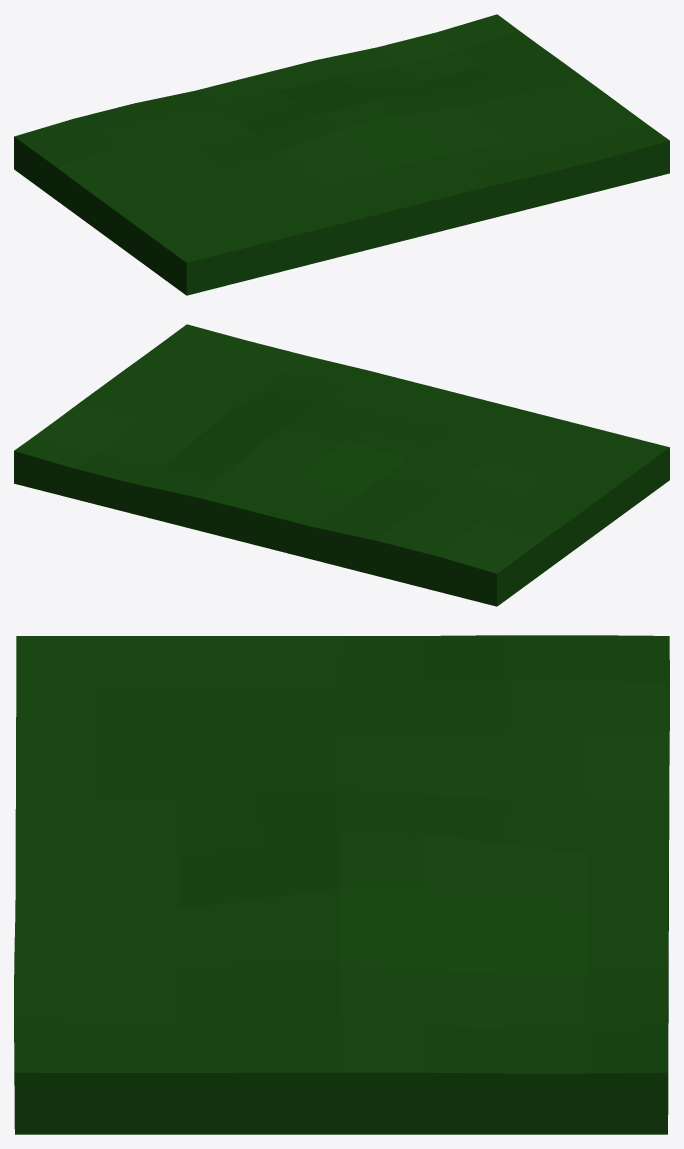
Rendered from grass_road.fbx.
3 renders of one model, top to bottom at view 1: azimuth 30°, elevation 25°; view 2: azimuth 150°, elevation 25°; view 3: azimuth 270°, elevation 25°, orthographic. The views are drawn at different scales.
Parts seen in each view (by area): view 1: Cube.001; view 2: Cube.001; view 3: Cube.001.
Part boxes in pixels (x1,y1,x2,y2): Cube.001: (14, 14, 669, 295); Cube.001: (14, 324, 669, 606); Cube.001: (14, 635, 669, 1134).
Size of the model in its own units: 3082 by 274 by 1916.
